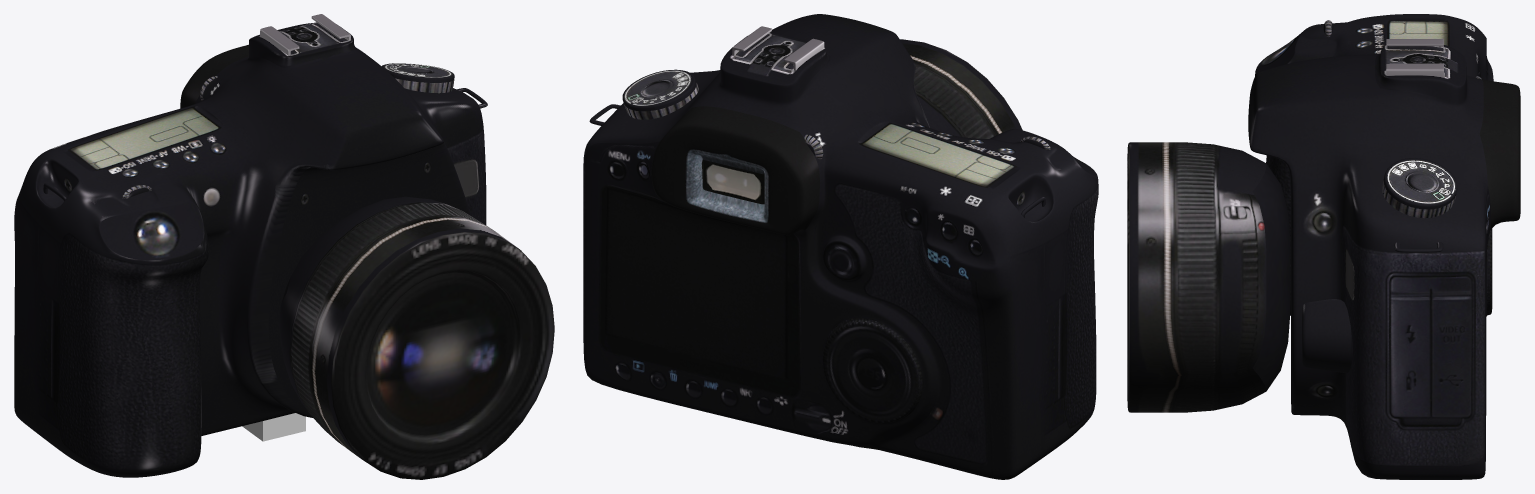
The model's file is camera.glb.
3 views of the same model, side by side, from view 1: azimuth 30°, elevation 25°; view 2: azimuth 150°, elevation 25°; view 3: azimuth 270°, elevation 25° (orthographic).
Visible parts, largest first — view 1: 10124_SLR_Camera_SG_V1_Iteration2, Cube; view 2: 10124_SLR_Camera_SG_V1_Iteration2; view 3: 10124_SLR_Camera_SG_V1_Iteration2.
Boxes of the visible parts, <box> form: 10124_SLR_Camera_SG_V1_Iteration2: <box>14,14,554,479</box>; Cube: <box>242,413,305,441</box>; 10124_SLR_Camera_SG_V1_Iteration2: <box>583,14,1098,479</box>; 10124_SLR_Camera_SG_V1_Iteration2: <box>1127,14,1520,479</box>.
Size of the model in its own units: 20.47 by 16.55 by 15.57.
1 material, 1 textured.
